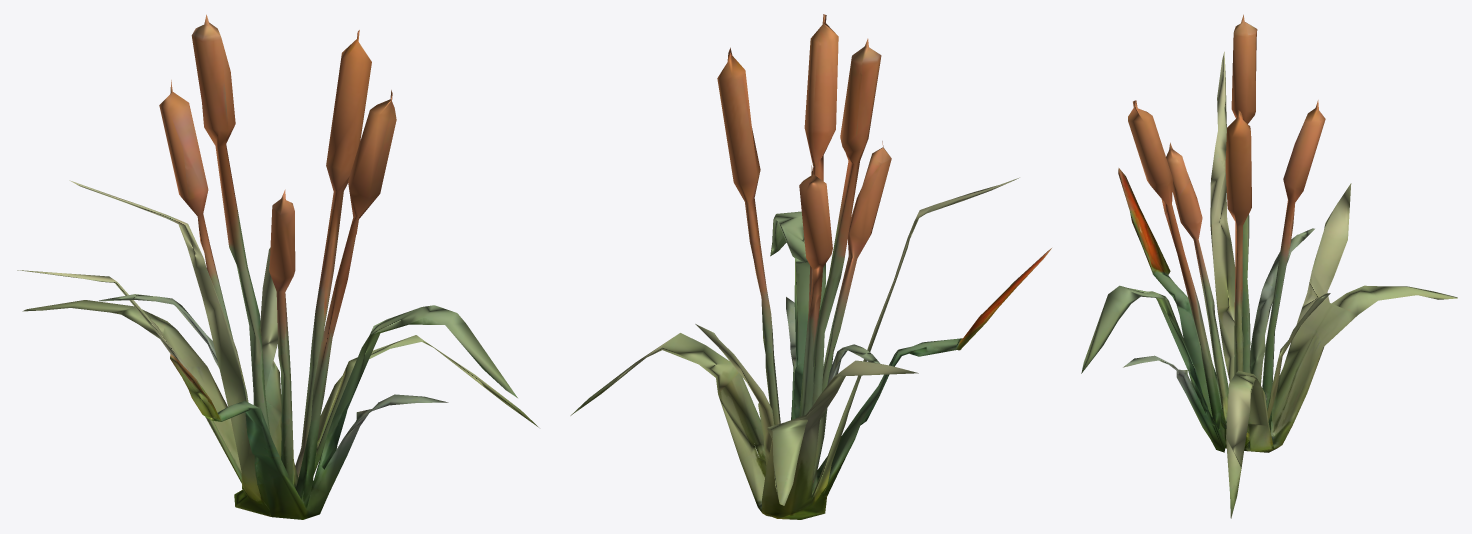
Rendered from reeds.glb.
The picture shows the model from 3 angles, left to right: view 1: azimuth 30°, elevation 25°; view 2: azimuth 150°, elevation 25°; view 3: azimuth 270°, elevation 25°; orthographic projection. The views are drawn at different scales.
Visible parts, largest first — view 1: tripo_node_ef135df0-b1dc-42bd-8210-3132648502ae; view 2: tripo_node_ef135df0-b1dc-42bd-8210-3132648502ae; view 3: tripo_node_ef135df0-b1dc-42bd-8210-3132648502ae.
Part boxes in pixels (x1=…): tripo_node_ef135df0-b1dc-42bd-8210-3132648502ae: x1=17, y1=14, x2=538, y2=519; tripo_node_ef135df0-b1dc-42bd-8210-3132648502ae: x1=570, y1=14, x2=1051, y2=519; tripo_node_ef135df0-b1dc-42bd-8210-3132648502ae: x1=1081, y1=14, x2=1457, y2=518.
Size of the model in its own units: 0.9122 by 0.9413 by 0.7992.
1 material, 1 textured.
